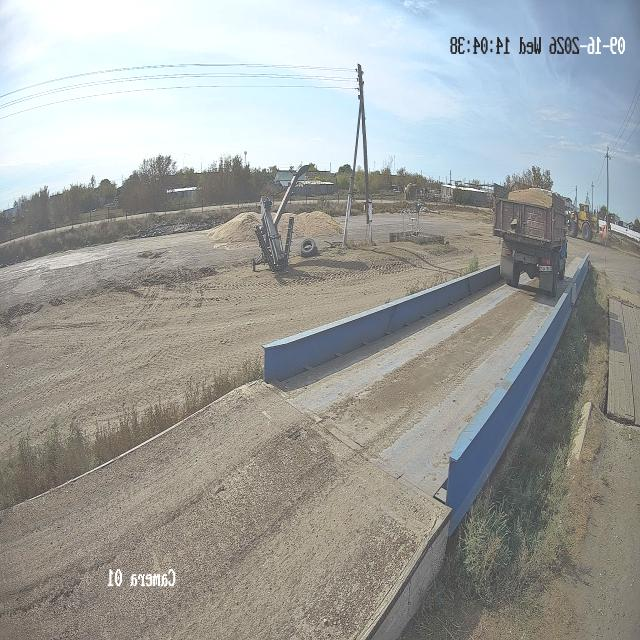license plate: (539, 265, 552, 271)
tractor: (567, 205, 599, 238)
truck: (494, 191, 567, 297), (494, 192, 567, 296), (526, 189, 540, 191)
